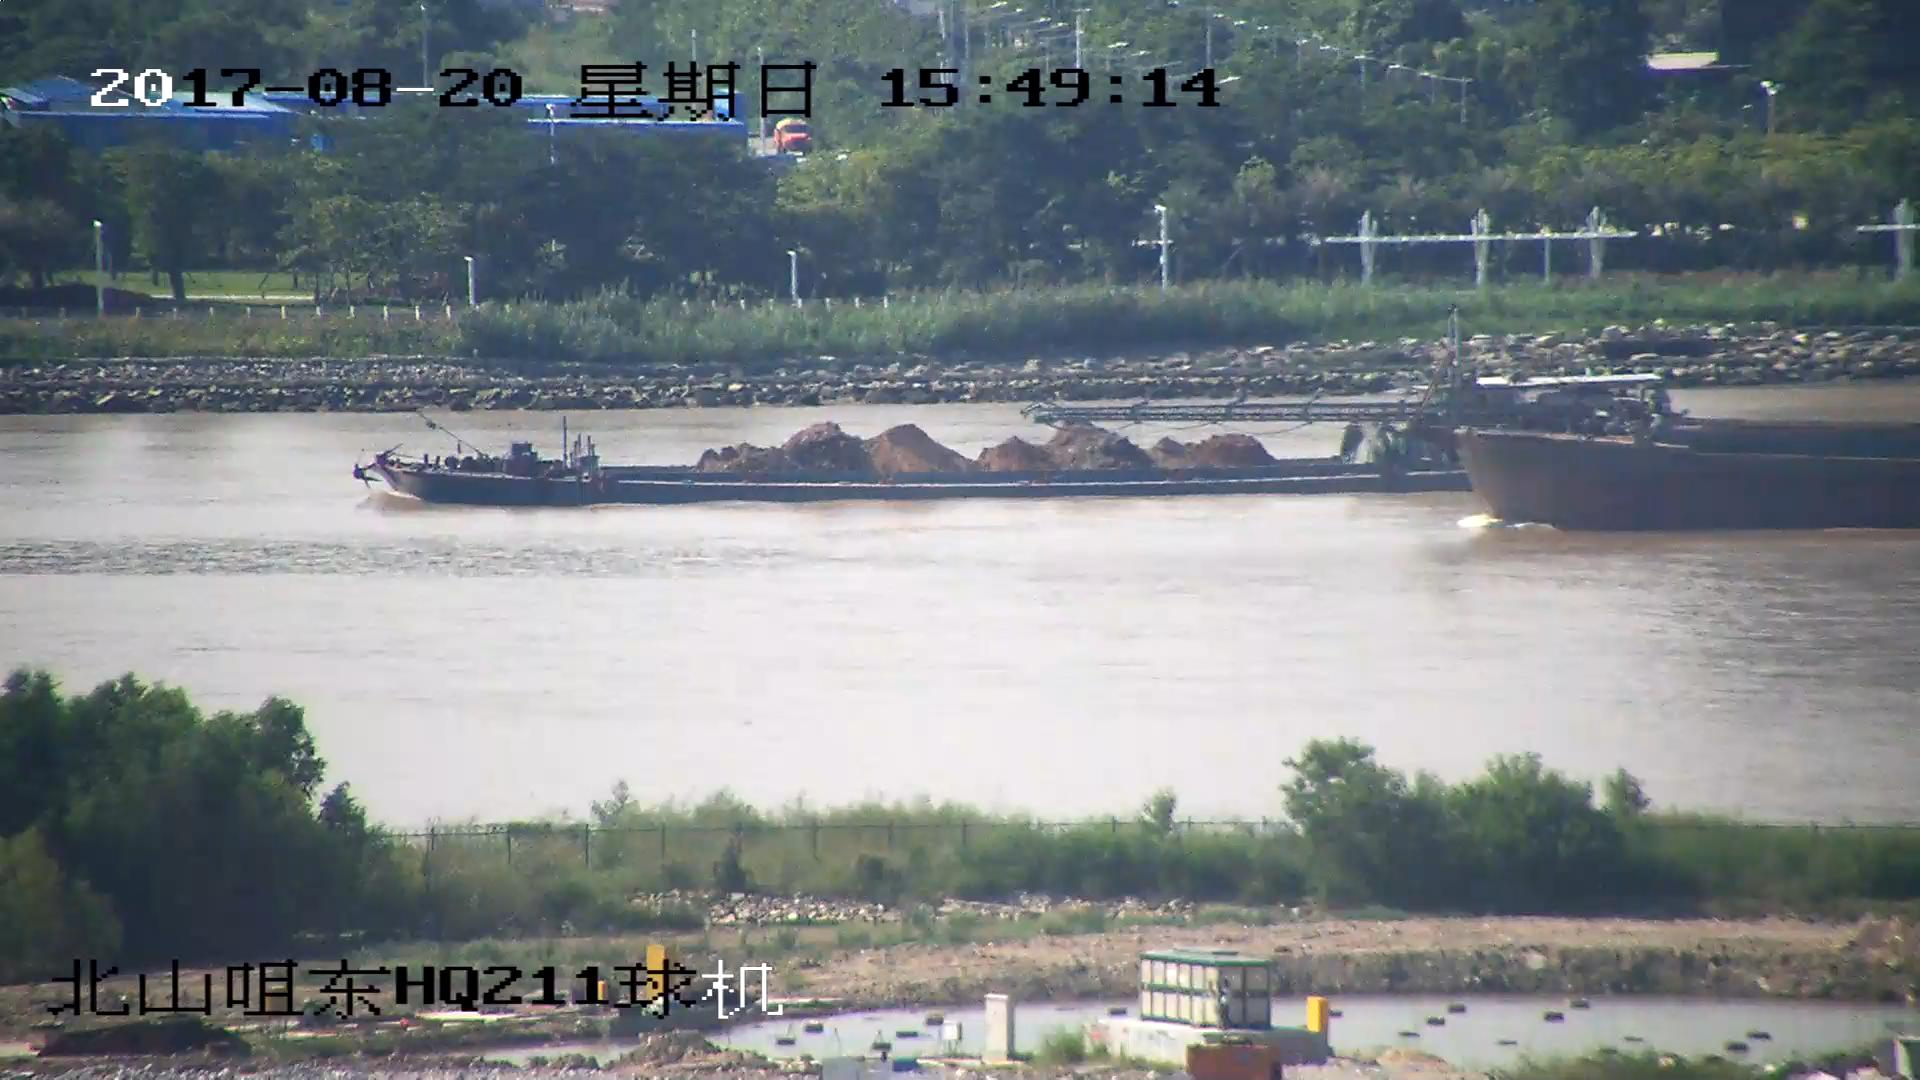bulk cargo carrier: (1048, 339, 1920, 533)
ore carrier: (359, 378, 1668, 508)
